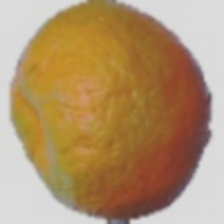tangerine: (43, 33, 220, 186)
